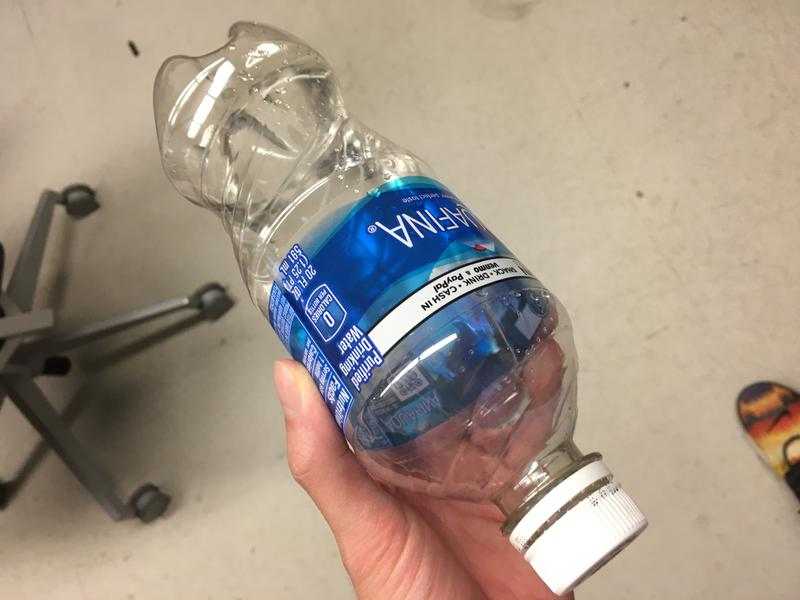bottle: (151, 18, 651, 599)
